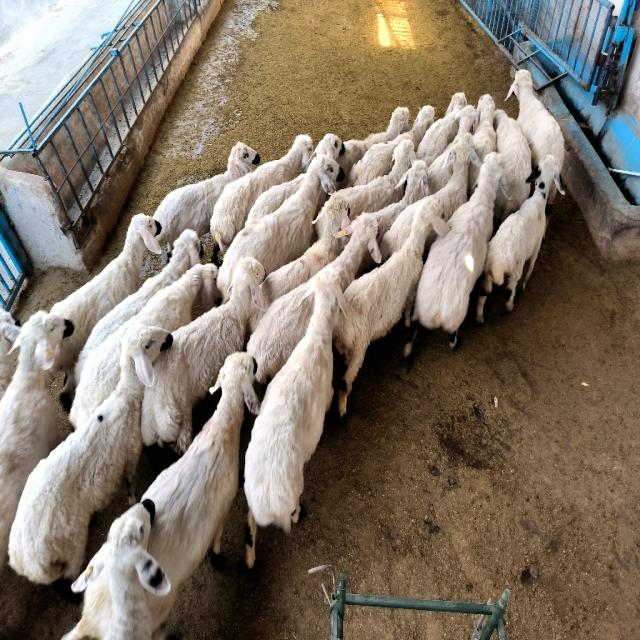sheep: (10, 325, 172, 582), (245, 270, 346, 566), (70, 263, 219, 428), (141, 257, 266, 453), (334, 207, 445, 417), (51, 213, 161, 407), (404, 152, 505, 358), (75, 228, 202, 384), (0, 312, 71, 574), (218, 155, 339, 298), (64, 500, 171, 639), (476, 155, 562, 322), (380, 133, 479, 261), (154, 142, 260, 256), (211, 135, 312, 251), (261, 193, 349, 302), (246, 277, 314, 383), (349, 105, 434, 185), (338, 140, 416, 219), (336, 107, 409, 188), (506, 70, 565, 168), (374, 160, 429, 241), (428, 105, 478, 192), (494, 110, 531, 226), (326, 213, 381, 291), (416, 92, 468, 165), (245, 174, 304, 227), (472, 93, 496, 162), (309, 133, 344, 162), (468, 165, 480, 196)
